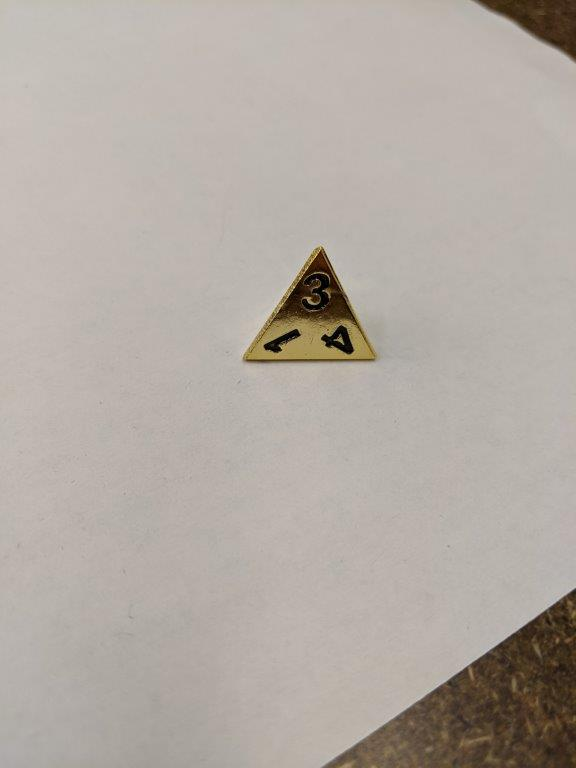d4-3: (233, 239, 386, 370)
